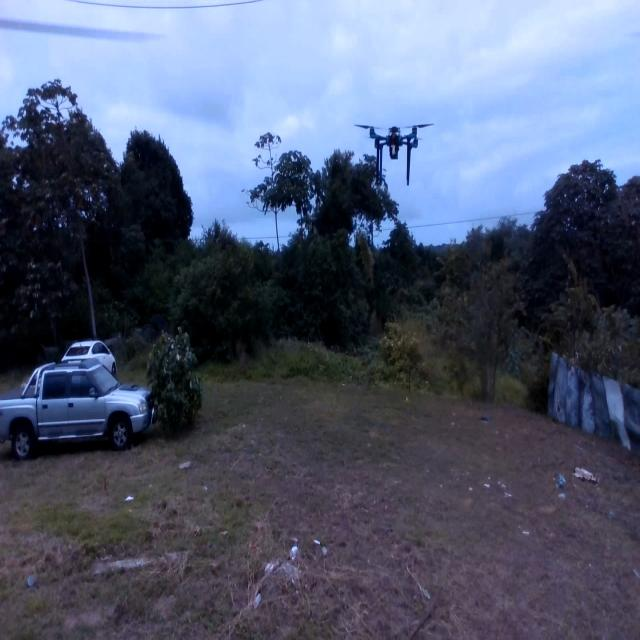-uav-: (344, 101, 444, 210)
